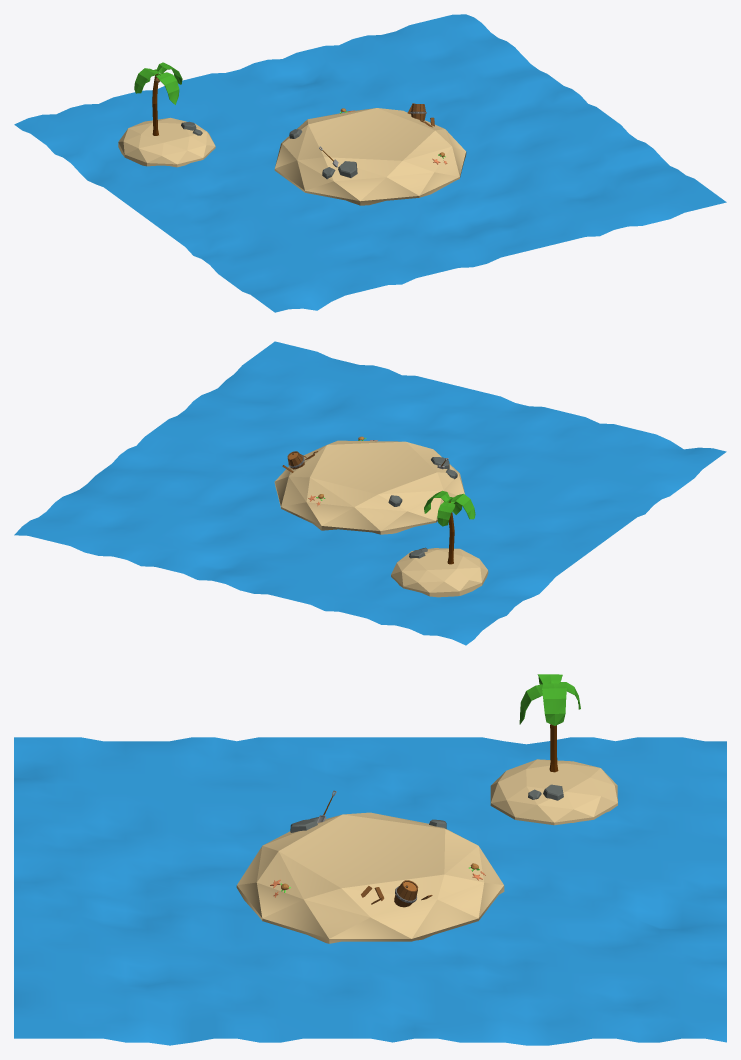
Rendered from Environment.fbx.
The picture shows the model from 3 angles, top to bottom: view 1: azimuth 30°, elevation 25°; view 2: azimuth 150°, elevation 25°; view 3: azimuth 270°, elevation 25°; orthographic projection. The views are drawn at different scales.
Parts seen in each view (by area): view 1: Sea, Island, Island2, Tree_Tropic_001; view 2: Sea, Island, Island2, Tree_Tropic_001; view 3: Sea, Island, Island2, Tree_Tropic_001.
Part boxes in pixels (x1,y1,x2,y2): Sea: (14,14,726,312); Island: (274,108,466,205); Island2: (118,117,215,167); Tree_Tropic_001: (134,62,182,135); Sea: (14,341,726,645); Island: (274,440,464,534); Island2: (391,548,488,597); Tree_Tropic_001: (424,490,475,564); Sea: (14,737,726,1045); Island: (236,812,504,943); Island2: (490,759,617,825); Tree_Tropic_001: (519,674,580,772).
Size of the model in its own units: 20 by 4.4 by 20.
